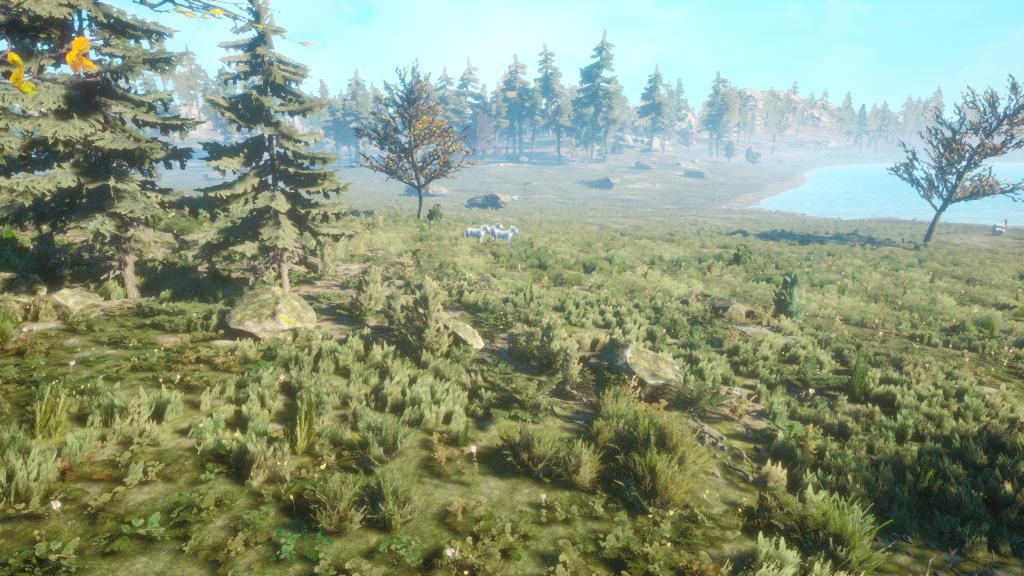zebra: (461, 221, 492, 248), (490, 224, 524, 248)
